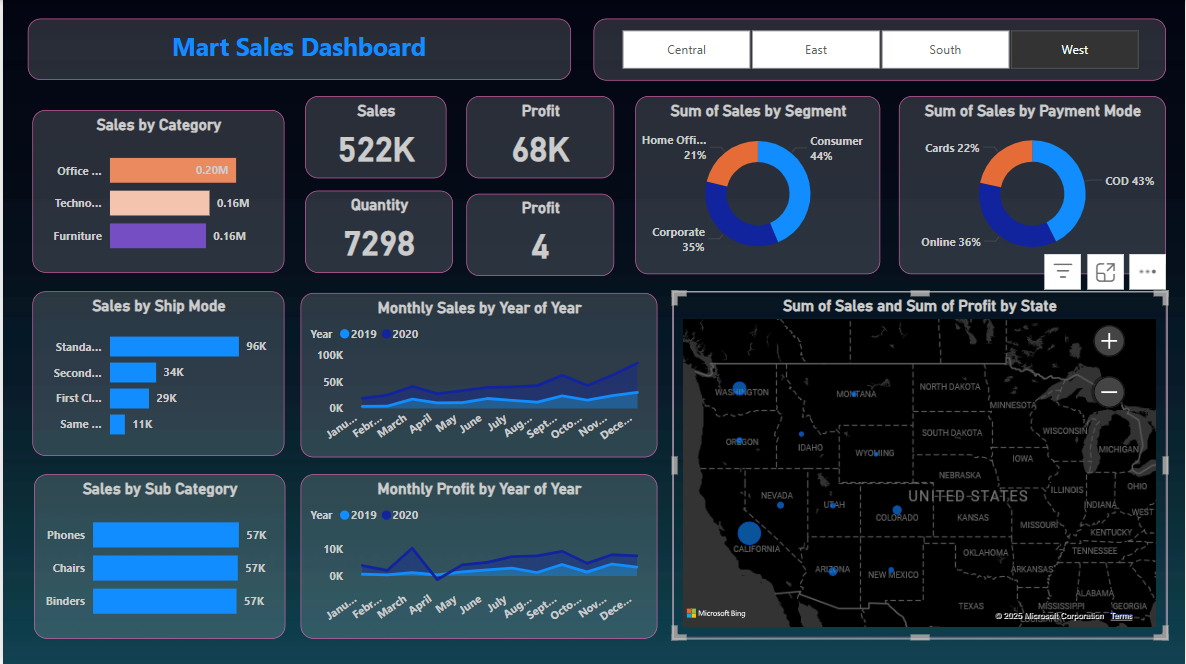

This screenshot's page, from the dashboard's own definition file:
{"tool":"powerbi","page":{"name":"Page 1","canvas":[1280,720],"ordinal":0},"visuals":[{"type":"clusteredBarChart","title":" Sales by Category","fields":{"Category":["SuperStore_Sales_Dataset.Category"],"Y":["Sum(SuperStore_Sales_Dataset.Sales)"]},"box":[32.7,120,272.7,176.4],"z":0},{"type":"clusteredBarChart","title":" Sales by Sub Category","fields":{"Category":["SuperStore_Sales_Dataset.Sub-Category"],"Y":["Sum(SuperStore_Sales_Dataset.Sales)"]},"box":[33.6,513.7,272,178],"z":1000},{"type":"clusteredBarChart","title":" Sales by Ship Mode","fields":{"Category":["SuperStore_Sales_Dataset.Ship Mode"],"Y":["Sum(SuperStore_Sales_Dataset.Sales)"]},"box":[32.7,316.4,272.7,178.2],"z":2000},{"type":"stackedAreaChart","title":"Monthly Sales by Year of Year","fields":{"Y":["Sum(SuperStore_Sales_Dataset.Sales)"],"Category":["SuperStore_Sales_Dataset.Order Date.Variation.Date Hierarchy.Month","SuperStore_Sales_Dataset.Order Date.Variation.Date Hierarchy.Day"],"Series":["SuperStore_Sales_Dataset.Order Date.Variation.Date Hierarchy.Year"]},"box":[321.7,316.7,386.7,178.3],"z":3000},{"type":"stackedAreaChart","title":"Monthly Profit by Year of Year","fields":{"Category":["SuperStore_Sales_Dataset.Order Date.Variation.Date Hierarchy.Month","SuperStore_Sales_Dataset.Order Date.Variation.Date Hierarchy.Day"],"Series":["SuperStore_Sales_Dataset.Order Date.Variation.Date Hierarchy.Year"],"Y":["Sum(SuperStore_Sales_Dataset.Profit)"]},"box":[322.3,513.7,386.1,178],"z":4000},{"type":"map","fields":{"Category":["SuperStore_Sales_Dataset.State"],"Size":["Sum(SuperStore_Sales_Dataset.Sales)"]},"box":[725.5,316.4,534.5,374.5],"z":5000},{"type":"donutChart","fields":{"Category":["SuperStore_Sales_Dataset.Segment"],"Y":["Sum(SuperStore_Sales_Dataset.Sales)"]},"box":[685.5,103.6,265.5,192.7],"z":6000},{"type":"donutChart","fields":{"Category":["SuperStore_Sales_Dataset.Payment Mode"],"Y":["Sum(SuperStore_Sales_Dataset.Sales)"]},"box":[970.9,103.6,289.1,192.7],"z":7000},{"type":"slicer","fields":{"Values":["SuperStore_Sales_Dataset.Region"]},"box":[640,20,620,67.3],"z":8000},{"type":"textbox","box":[26.7,20,588.3,66.7],"z":9000},{"type":"card","title":"Sales","fields":{"Values":["Sum(SuperStore_Sales_Dataset.Sales)"]},"box":[327.3,103.6,152.7,89.1],"z":10000},{"type":"card","title":"Quantity","fields":{"Values":["Sum(SuperStore_Sales_Dataset.Quantity)"]},"box":[327.3,207.3,160,89.1],"z":11000},{"type":"card","title":"Profit","fields":{"Values":["Sum(SuperStore_Sales_Dataset.Profit)"]},"box":[501.8,103.6,160,89.1],"z":12000},{"type":"card","title":"Profit","fields":{"Values":["Avg(SuperStore_Sales_Dataset.AvgDelivery)"]},"box":[501.8,209.1,160,89.1],"z":13000}]}

Visuals, with their boxes in screenshot pixels (x1, y1, x2, y2), scaled from the page's 1280x720 canvas onto the 1186x664 screenshot:
" Sales by Category" clusteredBarChart: pyautogui.locateOnScreen(30, 111, 283, 273)
" Sales by Sub Category" clusteredBarChart: pyautogui.locateOnScreen(31, 474, 283, 638)
" Sales by Ship Mode" clusteredBarChart: pyautogui.locateOnScreen(30, 292, 283, 456)
"Monthly Sales by Year of Year" stackedAreaChart: pyautogui.locateOnScreen(298, 292, 656, 456)
"Monthly Profit by Year of Year" stackedAreaChart: pyautogui.locateOnScreen(299, 474, 656, 638)
map - SuperStore_Sales_Dataset.State x Sum(SuperStore_Sales_Dataset.Sales): pyautogui.locateOnScreen(672, 292, 1167, 637)
donutChart - SuperStore_Sales_Dataset.Segment x Sum(SuperStore_Sales_Dataset.Sales): pyautogui.locateOnScreen(635, 96, 881, 273)
donutChart - SuperStore_Sales_Dataset.Payment Mode x Sum(SuperStore_Sales_Dataset.Sales): pyautogui.locateOnScreen(900, 96, 1167, 273)
slicer - SuperStore_Sales_Dataset.Region: pyautogui.locateOnScreen(593, 18, 1167, 81)
textbox: pyautogui.locateOnScreen(25, 18, 570, 80)
"Sales" card: pyautogui.locateOnScreen(303, 96, 445, 178)
"Quantity" card: pyautogui.locateOnScreen(303, 191, 452, 273)
"Profit" card: pyautogui.locateOnScreen(465, 96, 613, 178)
"Profit" card: pyautogui.locateOnScreen(465, 193, 613, 275)
